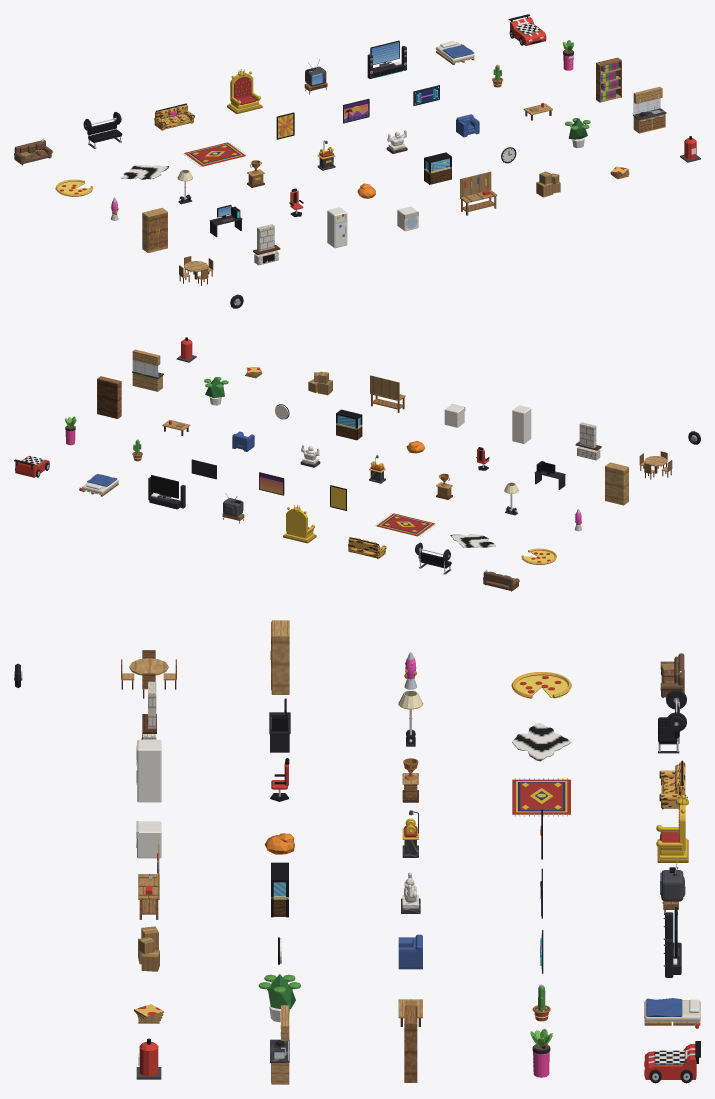
Rendered from Props_Home.fbx.
The picture shows the model from 3 angles, top to bottom: view 1: azimuth 30°, elevation 25°; view 2: azimuth 150°, elevation 25°; view 3: azimuth 270°, elevation 25°; orthographic projection. The views are drawn at different scales.
Parts seen in each view (by area): view 1: Home_KitchenCounter, Furniture_GiantScreen, Garage_Workbench, Home_Wardrobe, Home_Bookshelf, Furniture_ThroneSofa, Furniture_GoldRug, Furniture_RaceCarBed, Home_Fireplace, Garage_Fridge, Home_Aquarium, Furniture_BenchSofa (+12 smaller); view 2: Home_KitchenCounter, Furniture_GiantScreen, Home_Bookshelf, Home_Wardrobe, Garage_Workbench, Furniture_ThroneSofa, Furniture_GoldRug, Home_Fireplace, Home_Aquarium, Garage_Fridge, Furniture_RaceCarBed, Home_DiningSet (+12 smaller); view 3: Furniture_GoldRug, Furniture_RaceCarBed, Garage_Fridge, Furniture_Mattress, Home_Wardrobe, Furniture_ThroneSofa, Furniture_ZebraRug, Furniture_PizzaRug, Furniture_BenchSofa, Home_KitchenCounter, Home_DiningSet, Home_TallPlant (+13 smaller).
Boxes of the visible parts, x1,y1,x2,y2 form: Home_KitchenCounter: [633, 86, 666, 133]; Furniture_GiantScreen: [367, 40, 406, 78]; Garage_Workbench: [460, 171, 497, 215]; Home_Wardrobe: [142, 207, 167, 252]; Home_Bookshelf: [596, 57, 621, 102]; Furniture_ThroneSofa: [227, 69, 262, 113]; Furniture_GoldRug: [182, 142, 247, 166]; Furniture_RaceCarBed: [508, 14, 546, 45]; Home_Fireplace: [253, 224, 280, 265]; Garage_Fridge: [327, 207, 347, 248]; Home_Aquarium: [424, 152, 451, 184]; Furniture_BenchSofa: [83, 112, 122, 148]; Home_KitchenCounter: [132, 349, 163, 391]; Furniture_GiantScreen: [148, 475, 185, 509]; Home_Bookshelf: [97, 376, 121, 418]; Home_Wardrobe: [605, 462, 628, 505]; Garage_Workbench: [370, 375, 405, 412]; Furniture_ThroneSofa: [283, 504, 316, 543]; Furniture_GoldRug: [375, 513, 436, 536]; Home_Fireplace: [575, 422, 601, 460]; Home_Aquarium: [336, 409, 362, 440]; Garage_Fridge: [512, 405, 531, 443]; Furniture_RaceCarBed: [14, 456, 49, 477]; Home_DiningSet: [639, 451, 672, 479]; Furniture_GoldRug: [512, 778, 570, 816]; Furniture_RaceCarBed: [644, 1041, 700, 1083]; Garage_Fridge: [136, 739, 161, 802]; Furniture_Mattress: [644, 998, 700, 1028]; Home_Wardrobe: [270, 620, 289, 694]; Furniture_ThroneSofa: [656, 794, 688, 862]; Furniture_ZebraRug: [512, 723, 571, 761]; Furniture_PizzaRug: [511, 672, 571, 698]; Furniture_BenchSofa: [658, 690, 686, 753]; Home_KitchenCounter: [270, 1005, 289, 1084]; Home_DiningSet: [121, 650, 176, 698]; Home_TallPlant: [258, 974, 300, 1022].
Size of the model in its own units: 119 by 8 by 83.97.
Materials: 1 (1 with a texture image).
